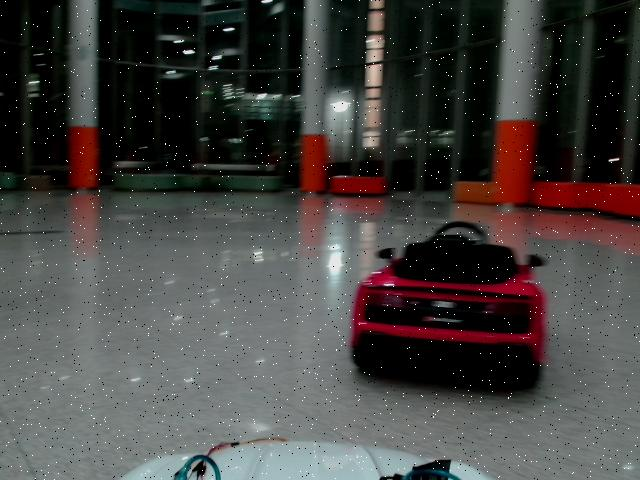car: (351, 221, 547, 387)
